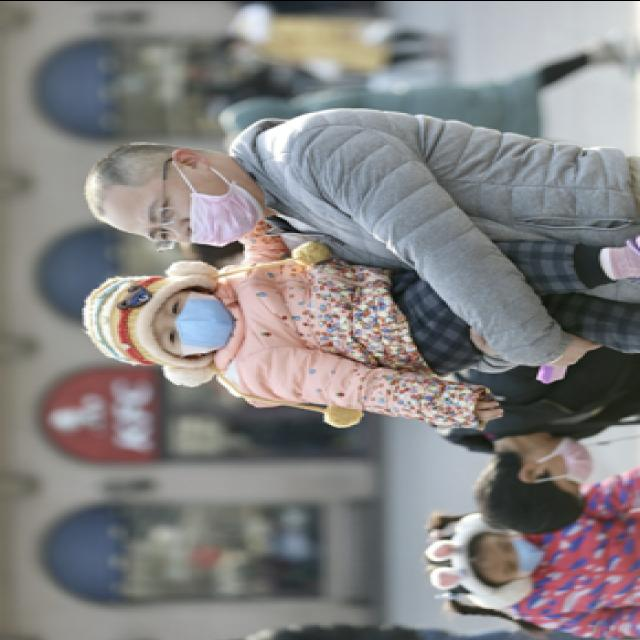mask: (154, 288, 234, 358), (550, 432, 594, 496), (488, 534, 543, 581)
no_mask: (139, 166, 267, 252)
